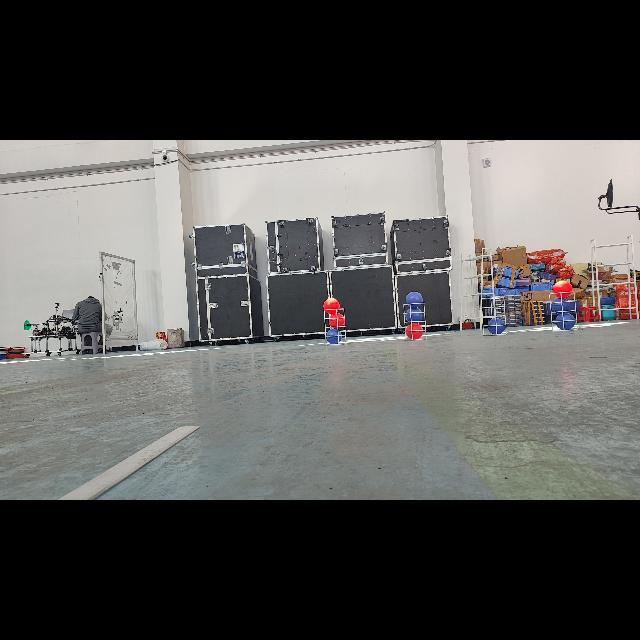B: (555, 312, 575, 330), (405, 306, 423, 324), (486, 318, 506, 334), (406, 291, 424, 307), (551, 298, 569, 314), (326, 329, 342, 345)
R: (552, 280, 572, 298), (329, 312, 346, 330), (406, 323, 424, 339), (324, 297, 340, 313)
S: (478, 292, 509, 338), (548, 291, 580, 333), (320, 305, 350, 347), (402, 301, 431, 344)
